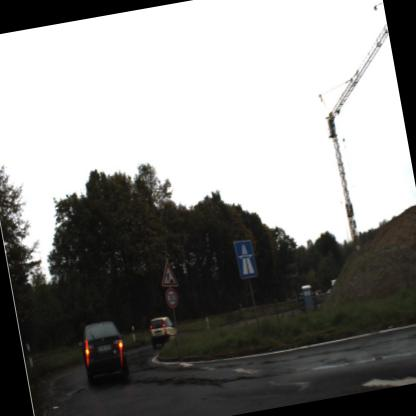danger: (156, 258, 182, 290)
prohibitory: (162, 285, 180, 311)
